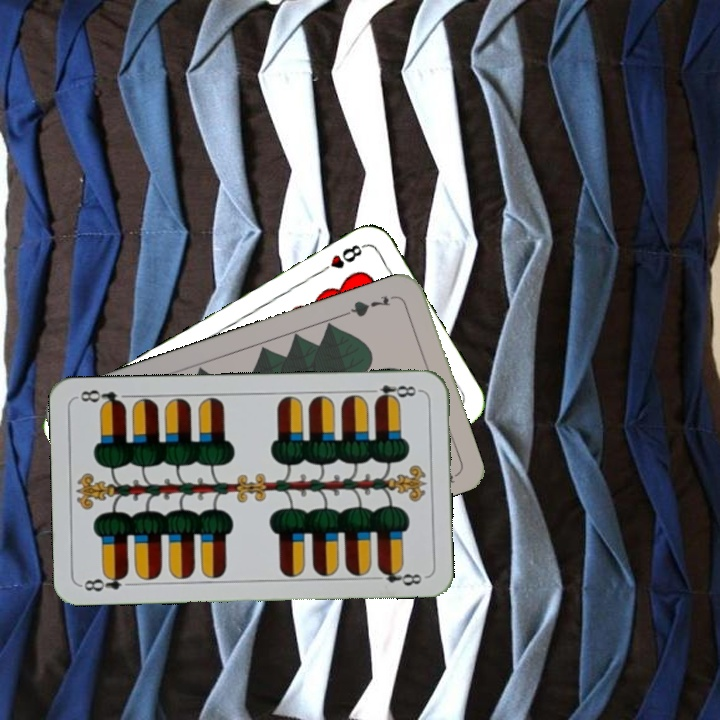E8: (78, 569, 131, 595), (364, 381, 423, 404)
G7: (342, 291, 399, 320)
H8: (314, 240, 368, 277)
